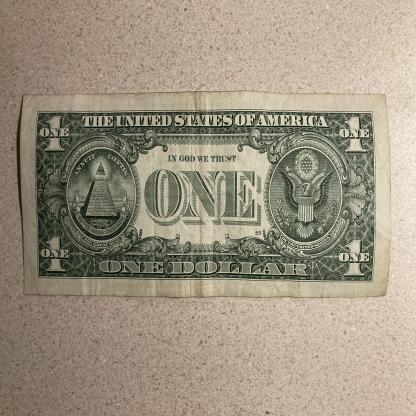one-back: (19, 90, 393, 298)
